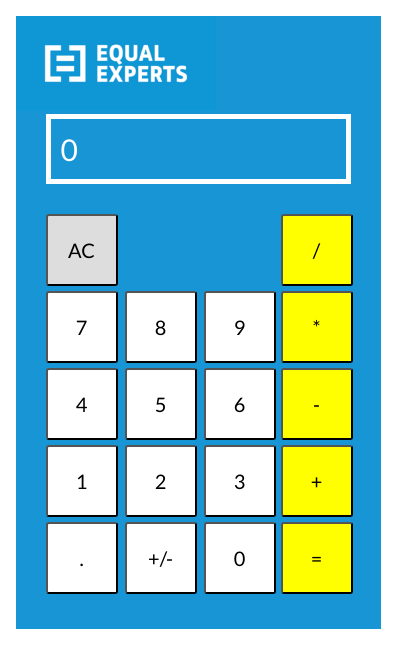
Scenario: -0 should be removed from the start of integers
Click the button "+/-": (160, 558) [124, 522, 196, 594]
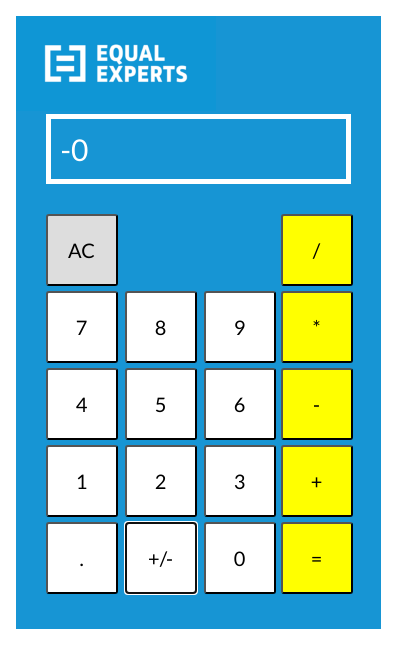
Check: the message reads "-0", box [60, 131, 88, 167]
Click the button "1": (82, 481) [46, 445, 118, 517]
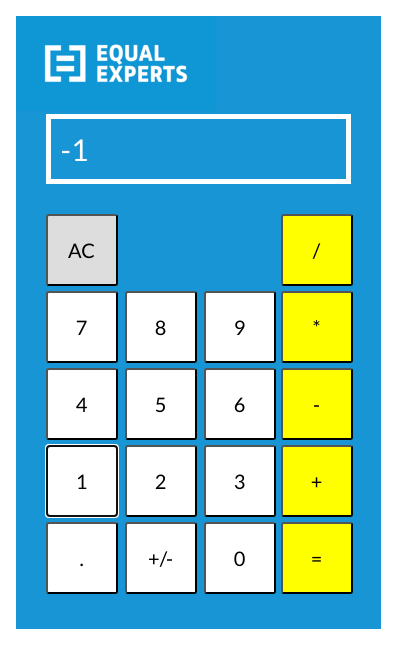
Check: the message reads "-1", box [60, 131, 88, 167]
